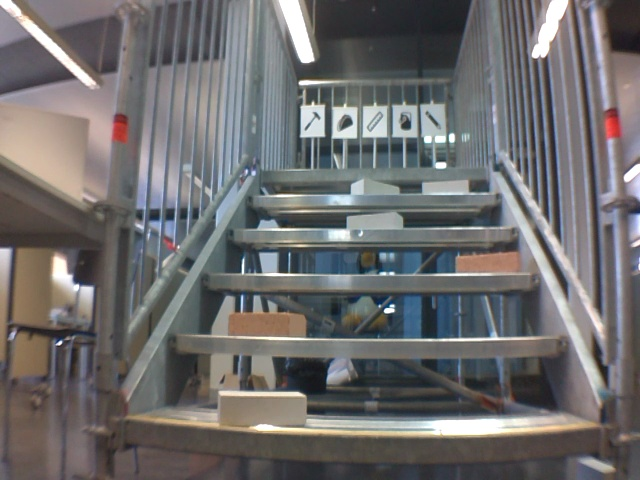brick: (218, 391, 307, 426), (229, 313, 305, 337), (455, 253, 519, 273), (347, 211, 403, 229), (351, 179, 398, 195), (422, 180, 468, 194)
bucket: (397, 109, 415, 131)
edge: (124, 418, 601, 459), (170, 335, 566, 359), (204, 274, 541, 291), (223, 229, 519, 242), (245, 193, 506, 206), (262, 169, 490, 181)
hammer: (302, 108, 321, 134)
pencil: (422, 107, 443, 132)
ruler: (363, 109, 385, 135)
stairs: (87, 0, 636, 475)
steps: (119, 168, 604, 467)
taco: (334, 111, 355, 134)
